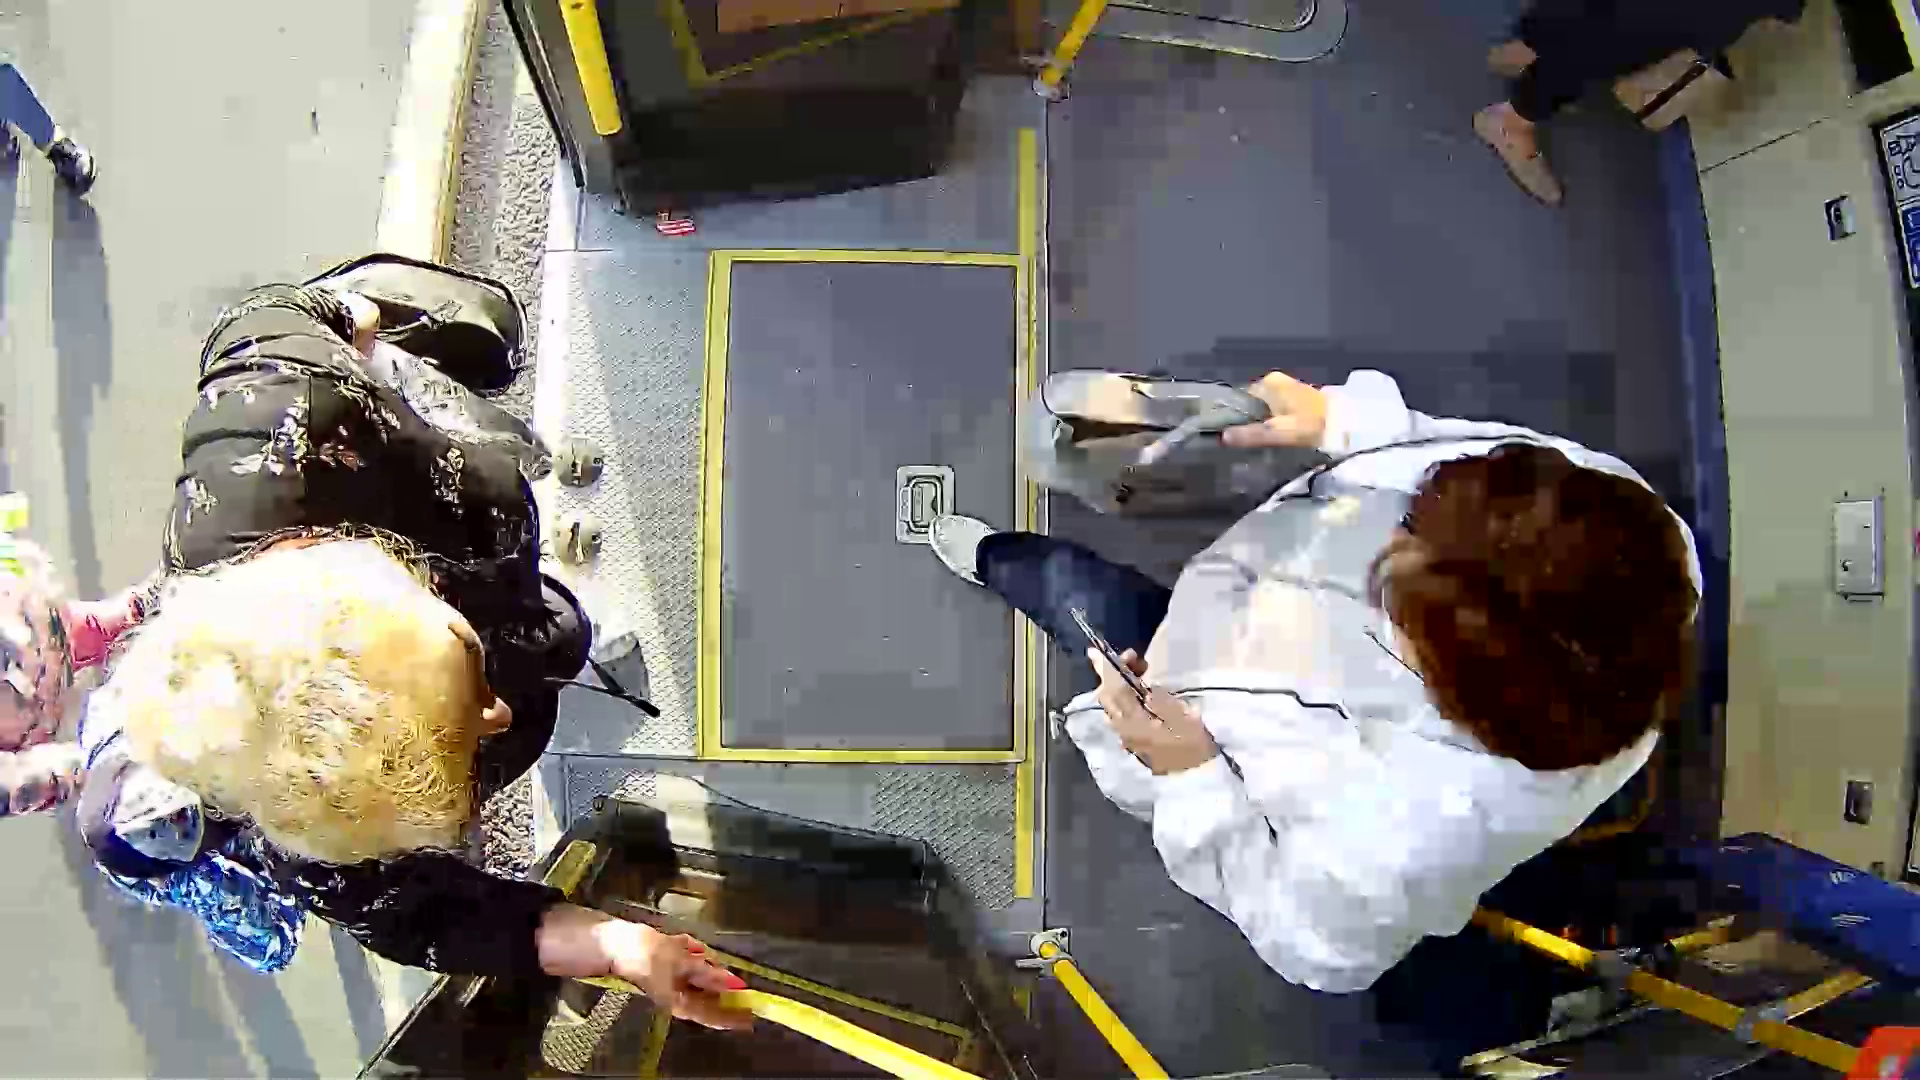person: (36, 255, 806, 1041), (978, 331, 1773, 1019)
